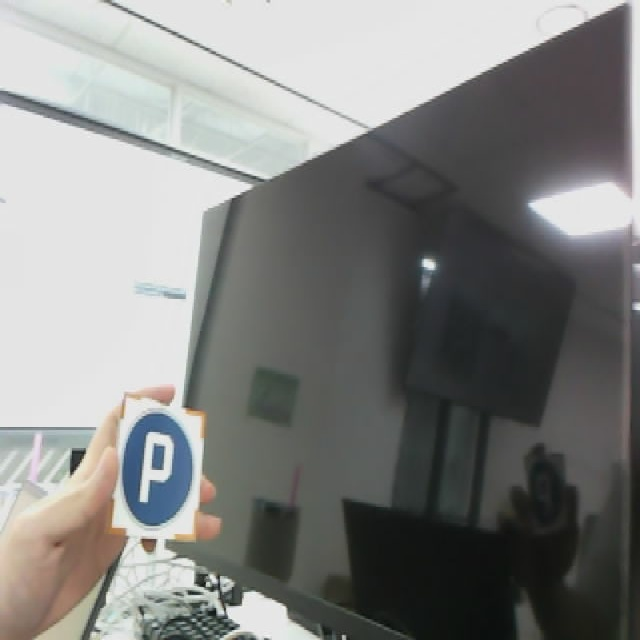parking: (107, 392, 208, 543)
